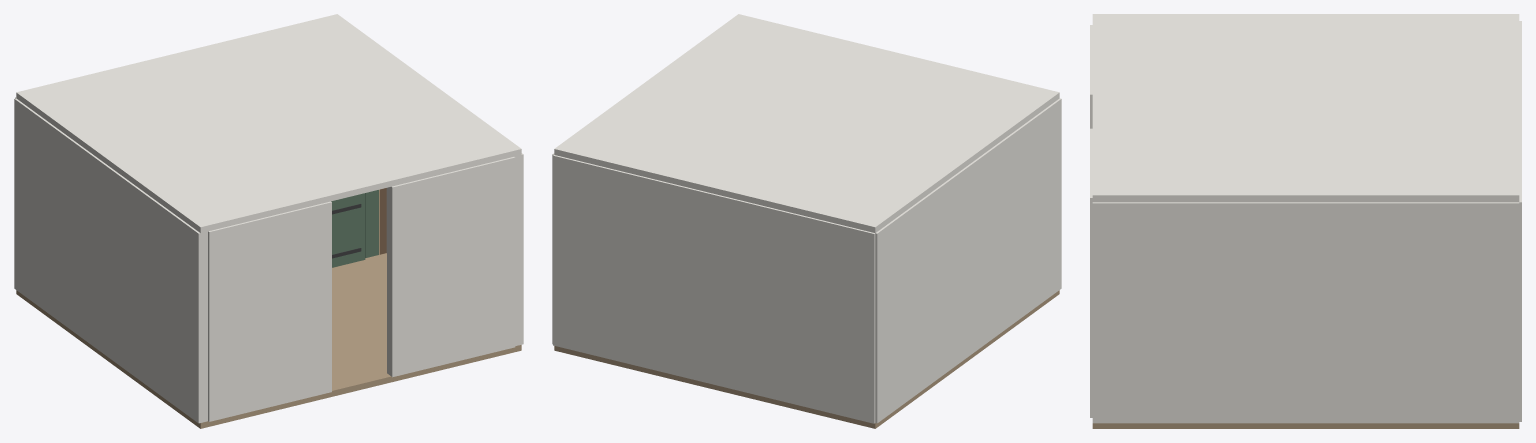
Rendered from playroom_build.glb.
The picture shows the model from 3 angles, left to right: view 1: azimuth 30°, elevation 25°; view 2: azimuth 150°, elevation 25°; view 3: azimuth 270°, elevation 25°; orthographic projection. The views are drawn at different scales.
Visible parts, largest first — view 1: Ceiling, Wall_W, Wall_S_97, Wall_S_0, Floor, Hobbit door slab (playhouse), Wall_E, Jack R; view 2: Wall_N, Ceiling, Wall_W, Floor; view 3: Wall_E, Ceiling, Floor, Wall_N, Wall_S_97.
Part boxes in pixels (box(x1,y1,x2,y2)): Ceiling: box(16, 14, 521, 233); Wall_W: box(14, 98, 207, 423); Wall_S_97: box(387, 157, 515, 377); Wall_S_0: box(208, 201, 331, 421); Floor: box(16, 253, 521, 428); Hobbit door slab (playhouse): box(331, 193, 365, 267); Wall_E: box(386, 153, 523, 345); Jack R: box(365, 191, 372, 257); Wall_N: box(553, 155, 875, 423); Ceiling: box(554, 14, 1059, 233); Wall_W: box(875, 98, 1061, 423); Floor: box(554, 290, 1059, 428); Wall_E: box(1092, 202, 1519, 423); Ceiling: box(1092, 14, 1519, 202); Floor: box(1092, 423, 1519, 428); Wall_N: box(1519, 21, 1521, 421); Wall_S_97: box(1090, 128, 1092, 417).
Size of the model in its own units: 4.37 by 2.59 by 4.34.
